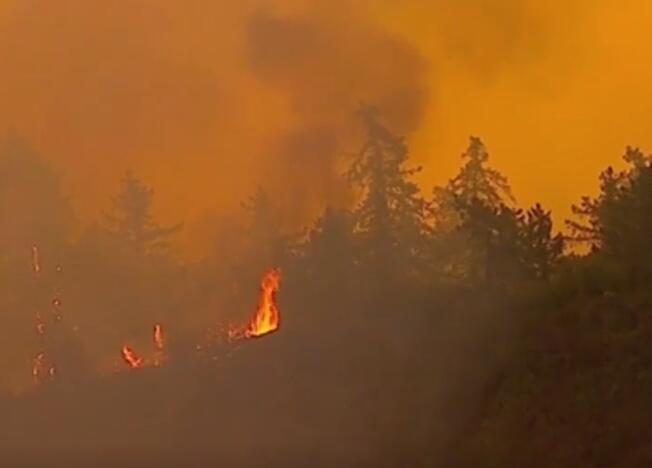fire: (222, 265, 285, 351), (115, 323, 167, 373)
yanwu: (1, 1, 490, 460)
